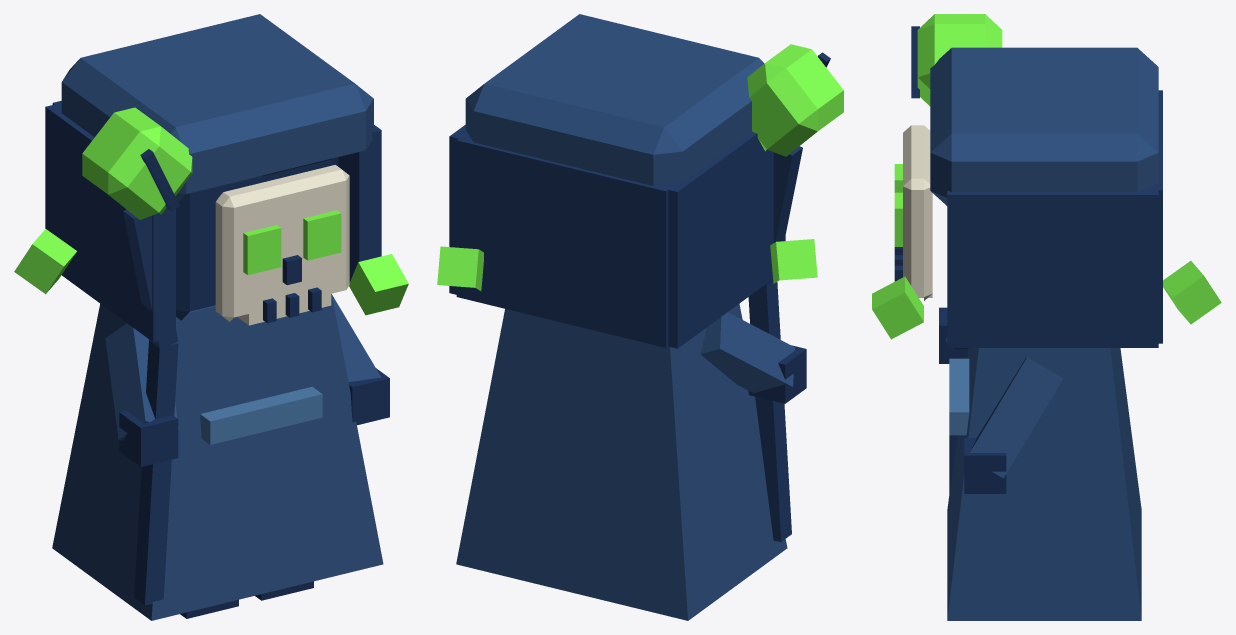
The model's file is weakener_r2.glb.
The picture shows the model from 3 angles, left to right: view 1: azimuth 30°, elevation 25°; view 2: azimuth 150°, elevation 25°; view 3: azimuth 270°, elevation 25°; orthographic projection. The views are drawn at different scales.
Visible parts, largest first — view 1: weakener_r2_mesh; view 2: weakener_r2_mesh; view 3: weakener_r2_mesh.
Part boxes in pixels (bbox=[...]): weakener_r2_mesh: bbox=[14, 14, 408, 620]; weakener_r2_mesh: bbox=[437, 14, 843, 620]; weakener_r2_mesh: bbox=[872, 14, 1221, 620].
Bounding box in the file's own units: 1.07 × 1.6 × 0.9931.
Materials: 1 (1 with a texture image).
